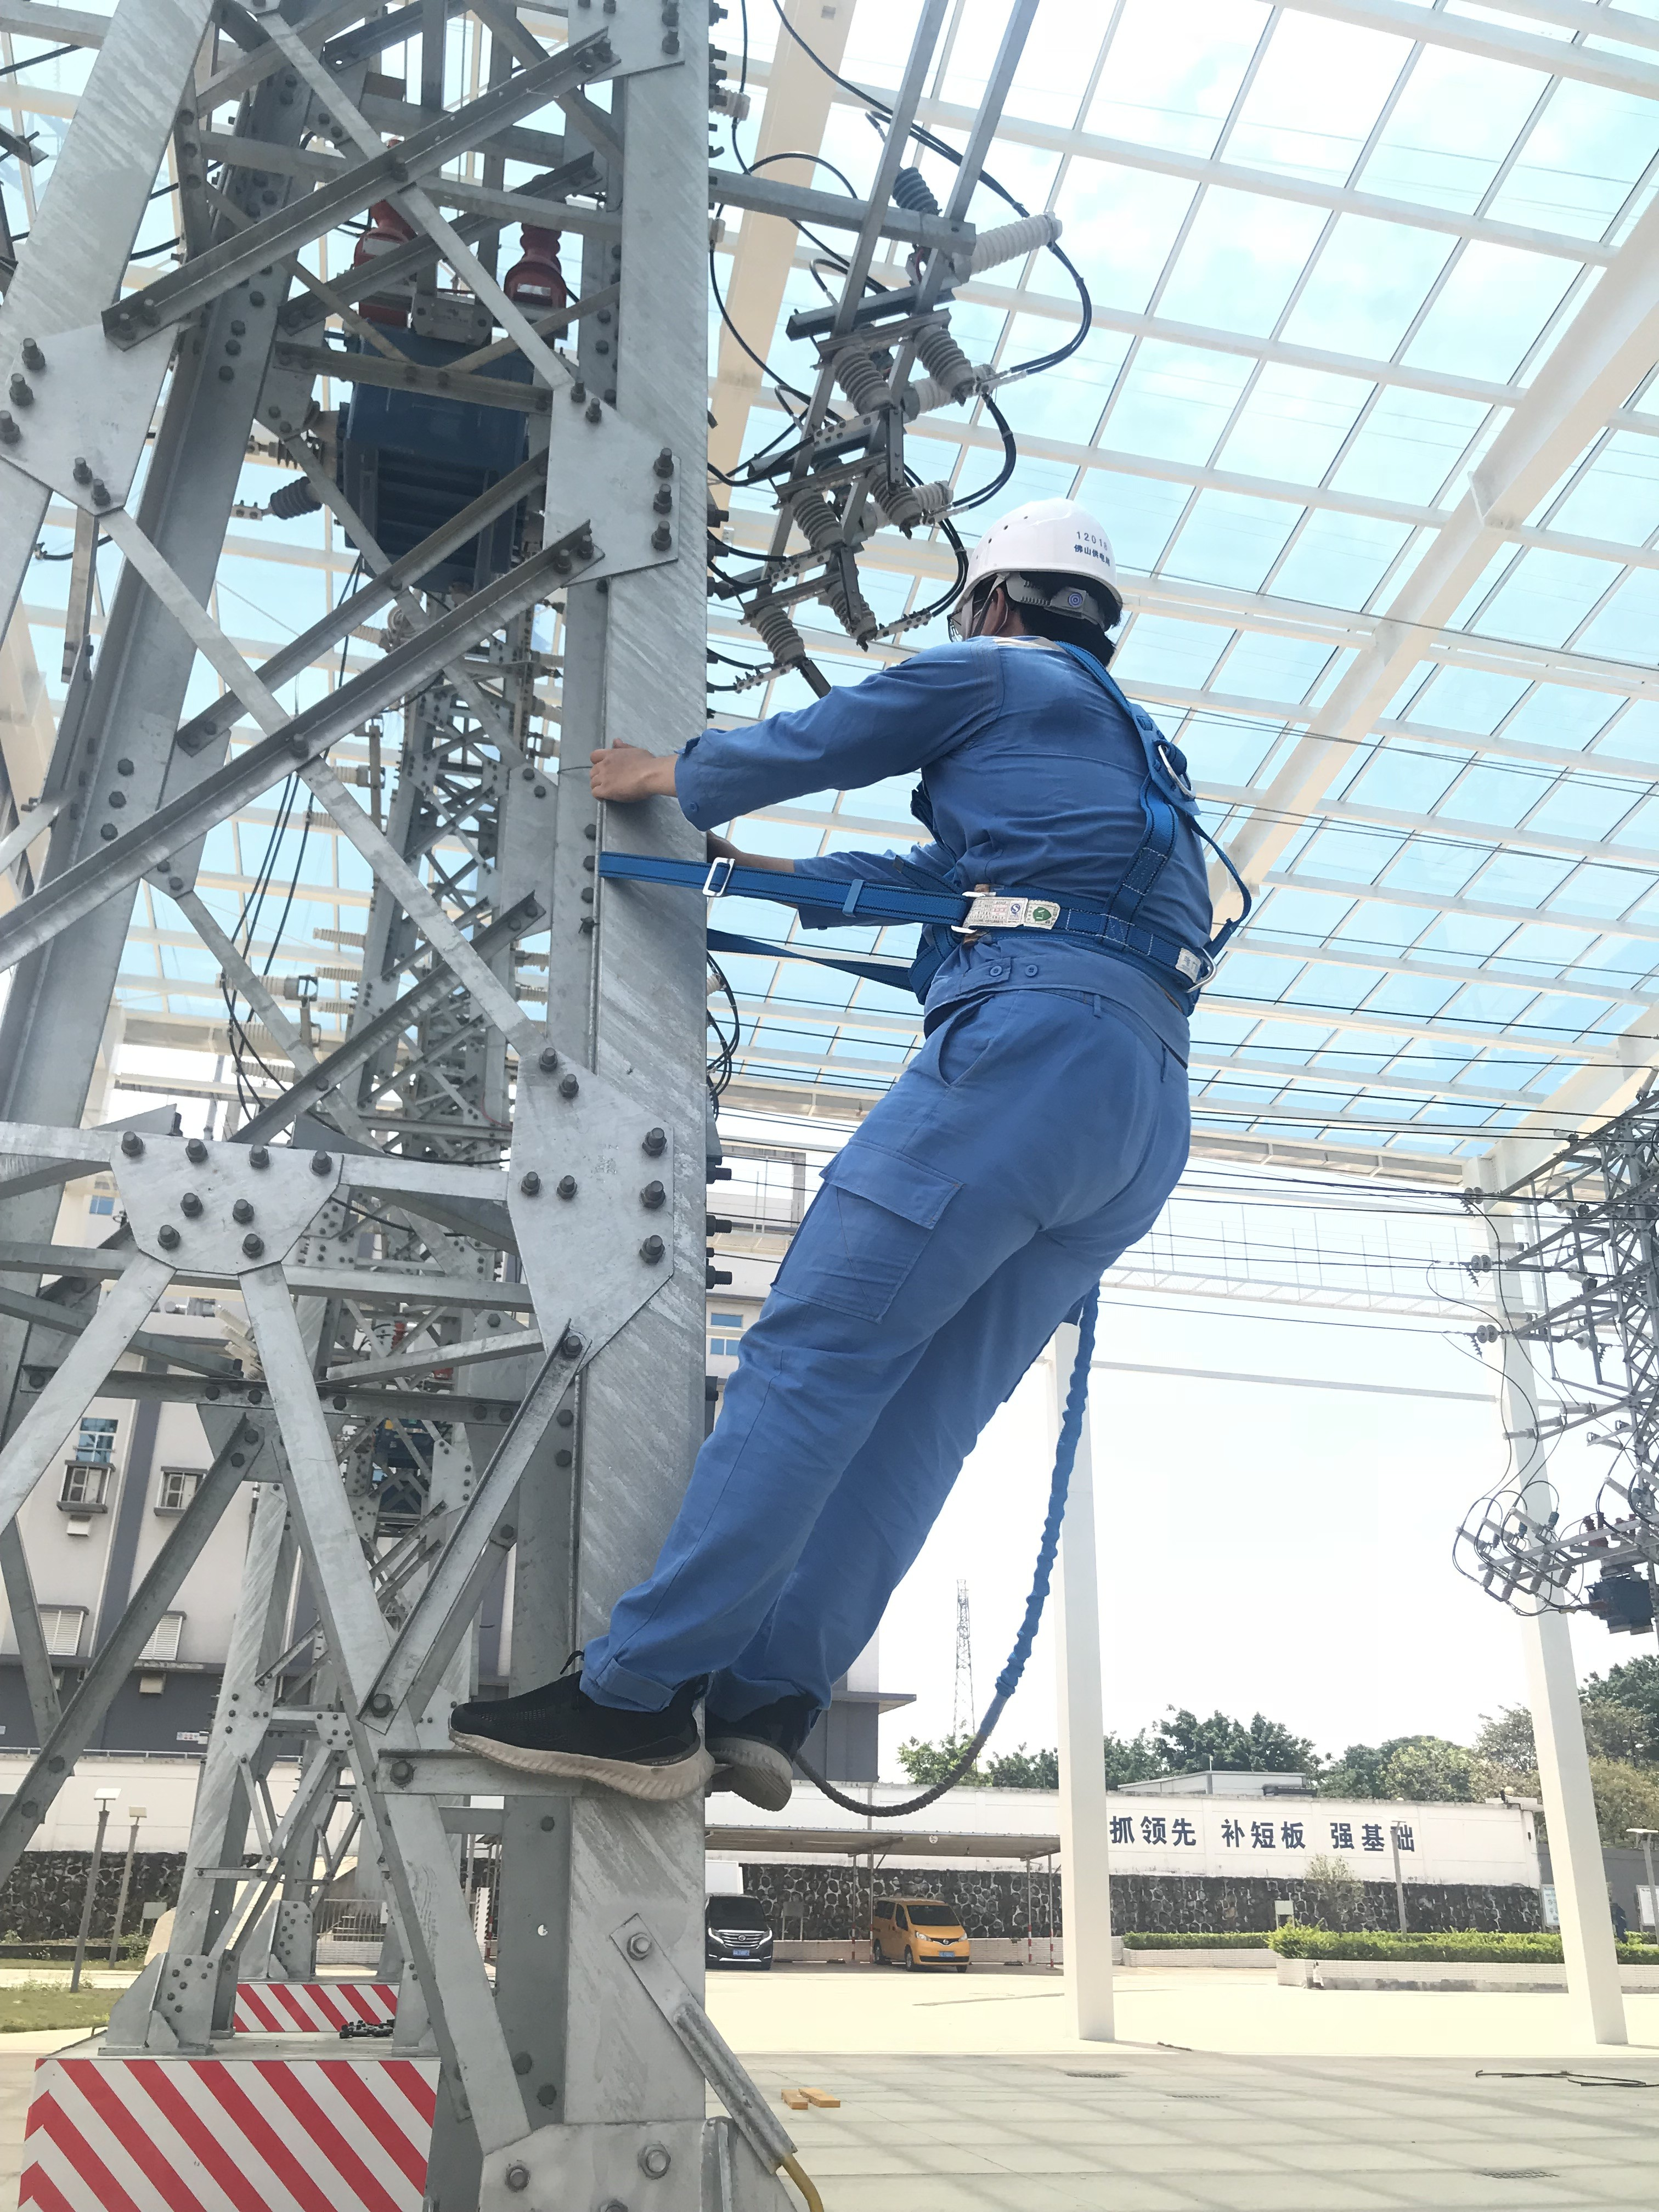downsuit: (608, 1087, 1194, 1719)
upsuit: (673, 637, 1222, 1014)
